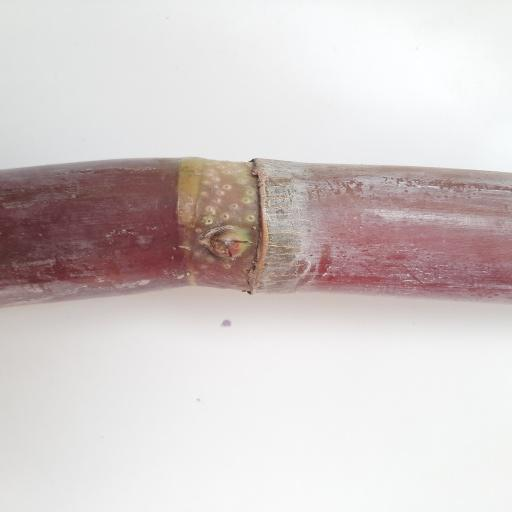Bud: (199, 225, 252, 261)
